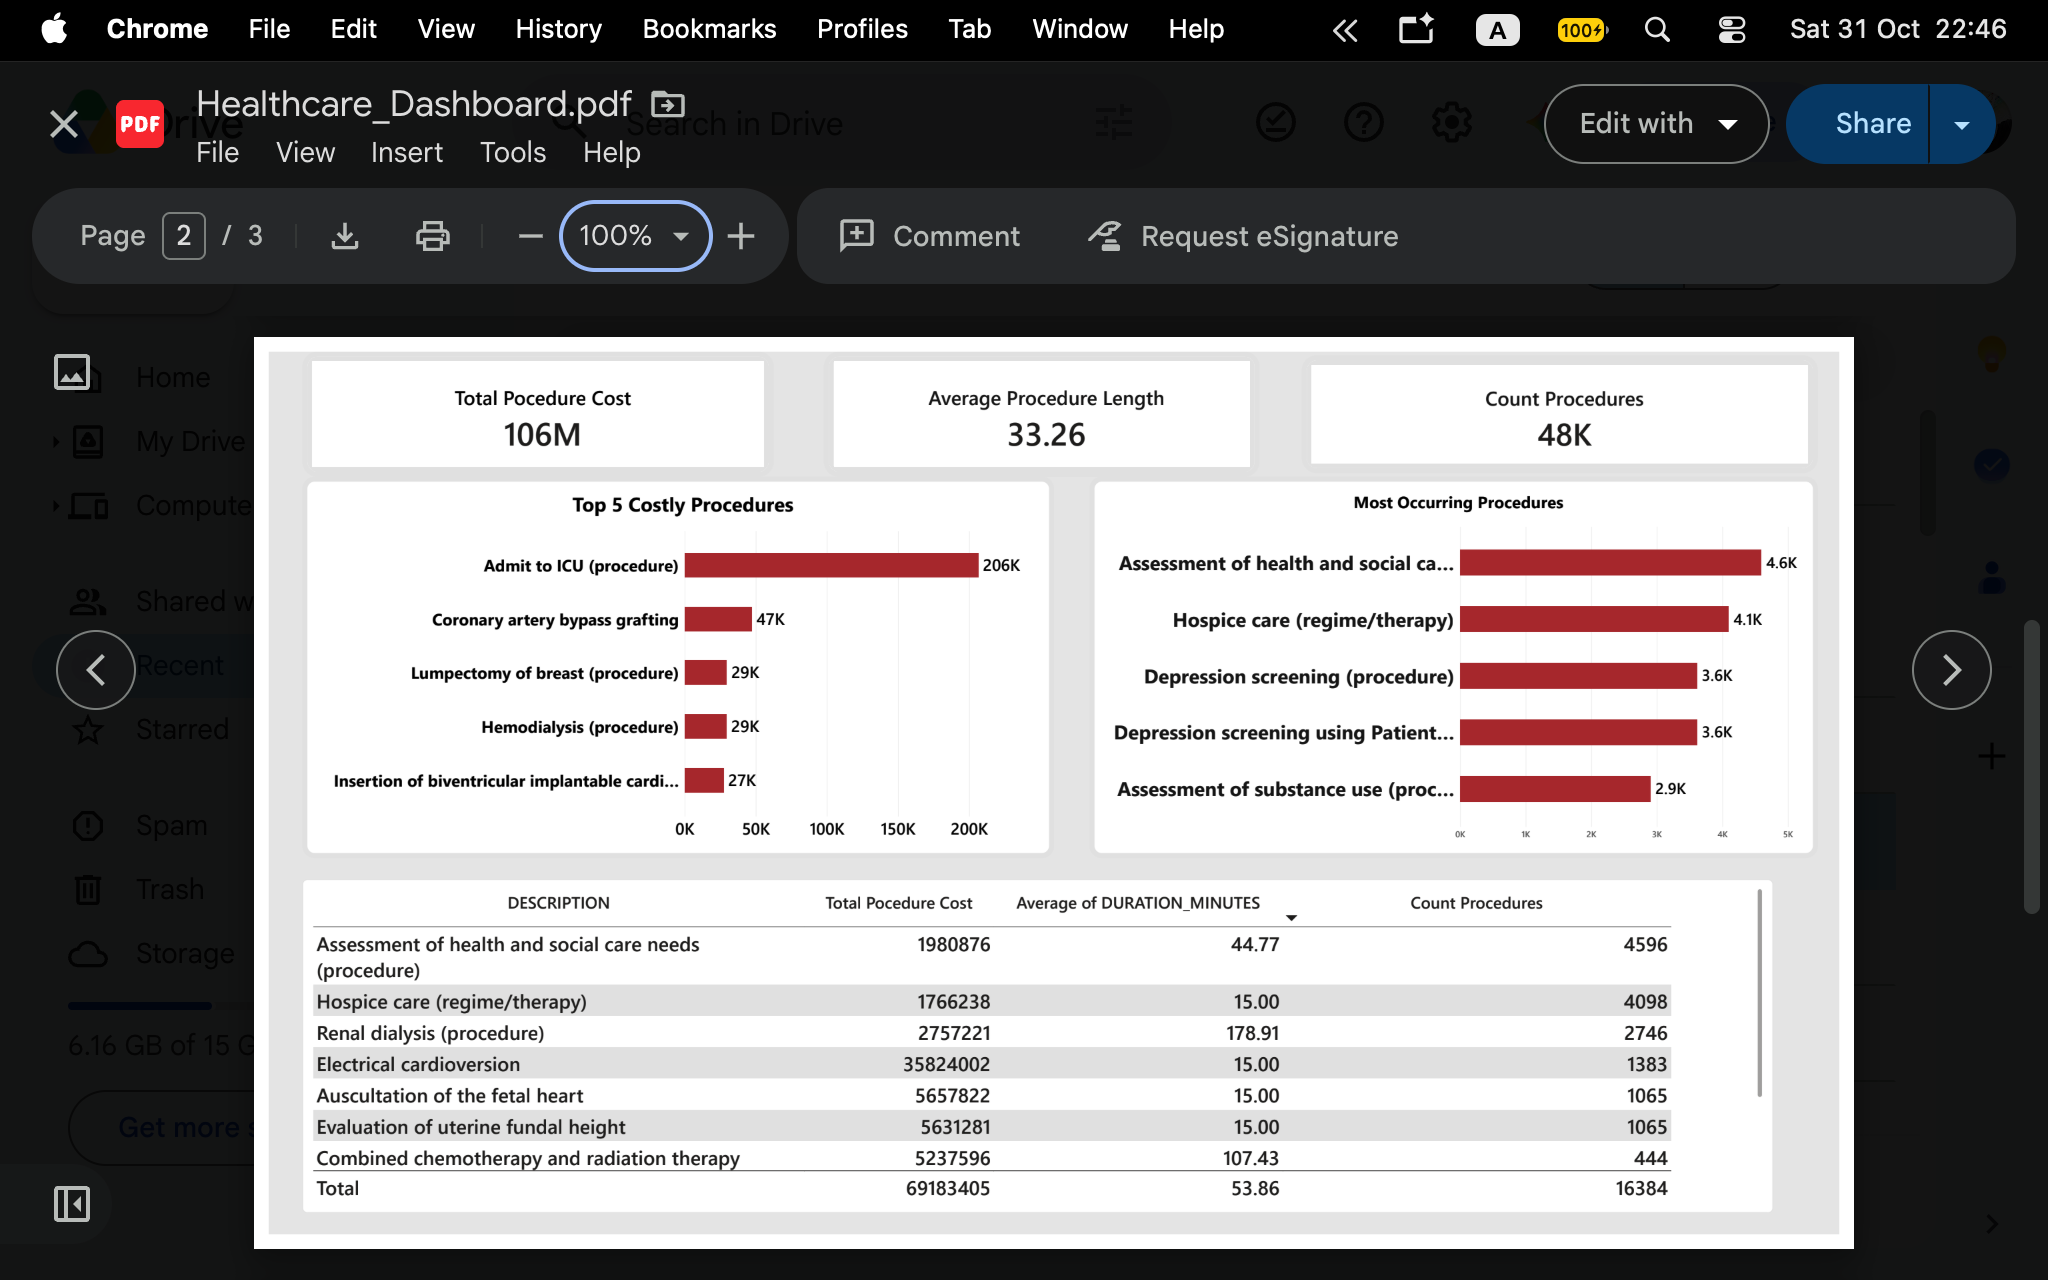

This screenshot's page, from the dashboard's own definition file:
{"tool":"powerbi","page":{"name":"Procedures","canvas":[2560,1440],"ordinal":1},"visuals":[{"type":"cardVisual","fields":{"Data":["Encounters.Average Procedure Length"]},"box":[904.7,0,709.8,203.6],"z":0},{"type":"cardVisual","fields":{"Data":["Encounters.Total Pocedure Cost"]},"box":[55.3,0,768,203.6],"z":1000},{"type":"tableEx","fields":{"Values":["Procedure.DESCRIPTION","Encounters.Total Pocedure Cost","Avg(Procedure.DURATION_MINUTES)","Encounters.Count Procedures"]},"box":[55.3,861.1,2397.1,544],"z":2000},{"type":"barChart","title":"Top 5 Costly Procedures","fields":{"Category":["Procedure.DESCRIPTION"],"Y":["Avg(Procedure.BASE_COST)"]},"box":[55.3,203.6,1224.7,622.5],"z":3000},{"type":"clusteredBarChart","title":"Most Occurring Procedures","fields":{"Category":["Procedure.DESCRIPTION"],"Y":["Encounters.Count Procedures"]},"box":[1338.2,203.6,1186.9,622.5],"z":4000},{"type":"cardVisual","fields":{"Data":["Encounters.Count Procedures"]},"box":[1684.4,5.8,840.7,192],"z":5000}]}

Visuals, with their boxes on the page's 2560x1440 design canvas (x1, y1, x2, y2). These are canvas units, not pixel positions in the 2048x1280 screenshot, which may show the page scaled, cropped or inside an application window:
cardVisual - Encounters.Average Procedure Length: (x1=905, y1=0, x2=1614, y2=204)
cardVisual - Encounters.Total Pocedure Cost: (x1=55, y1=0, x2=823, y2=204)
tableEx - Procedure.DESCRIPTION x Encounters.Total Pocedure Cost: (x1=55, y1=861, x2=2452, y2=1405)
"Top 5 Costly Procedures" barChart: (x1=55, y1=204, x2=1280, y2=826)
"Most Occurring Procedures" clusteredBarChart: (x1=1338, y1=204, x2=2525, y2=826)
cardVisual - Encounters.Count Procedures: (x1=1684, y1=6, x2=2525, y2=198)
